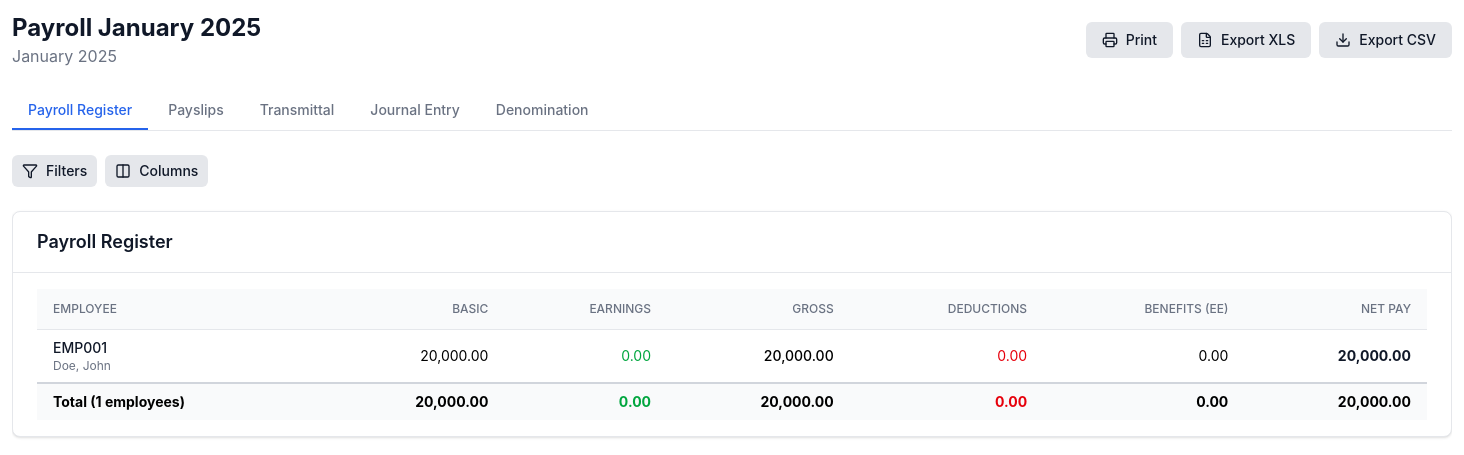
Test: PayrollOutputView › switches to payslip mode when Payslips tab is clicked
The width and height of the screenshot is (1464, 455).
Click the button "Payslips" at (196, 111), box [152,92,240,130]
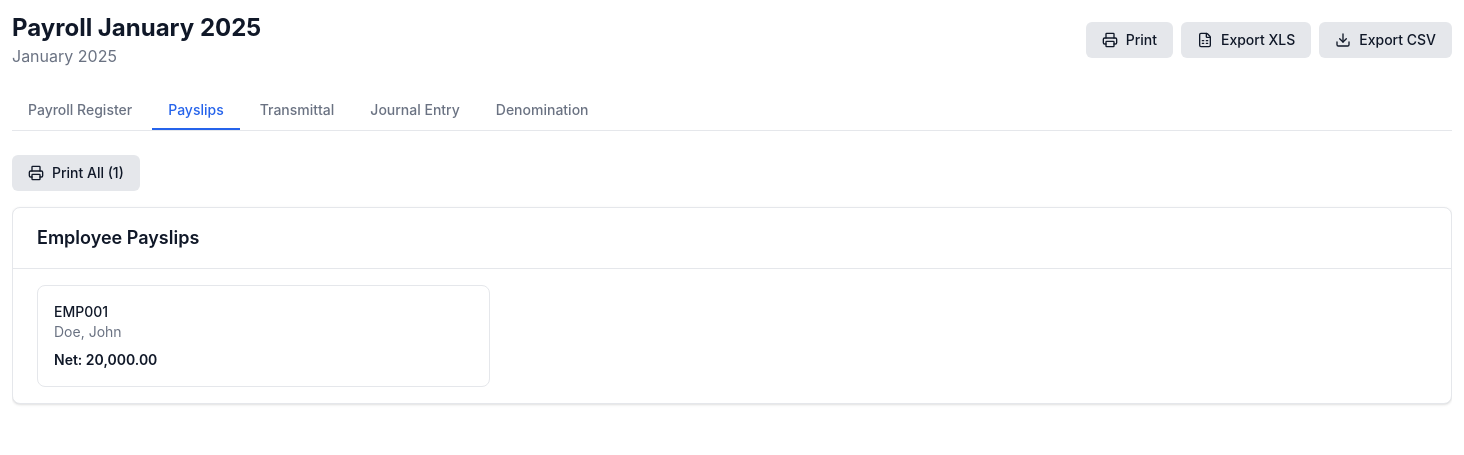
Now the heading "Employee Payslips" is shown, box [37,227,199,248]
